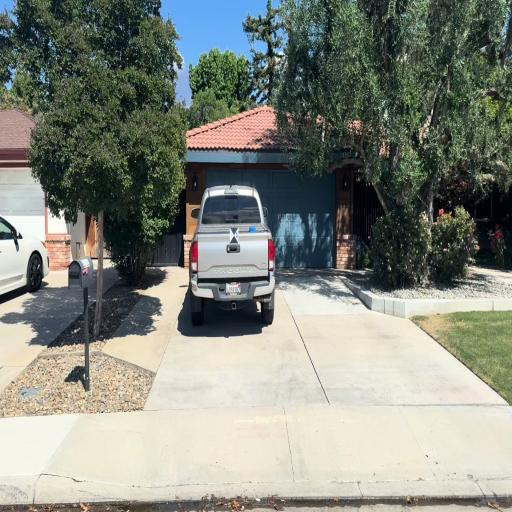target1: (230, 227, 238, 243)
